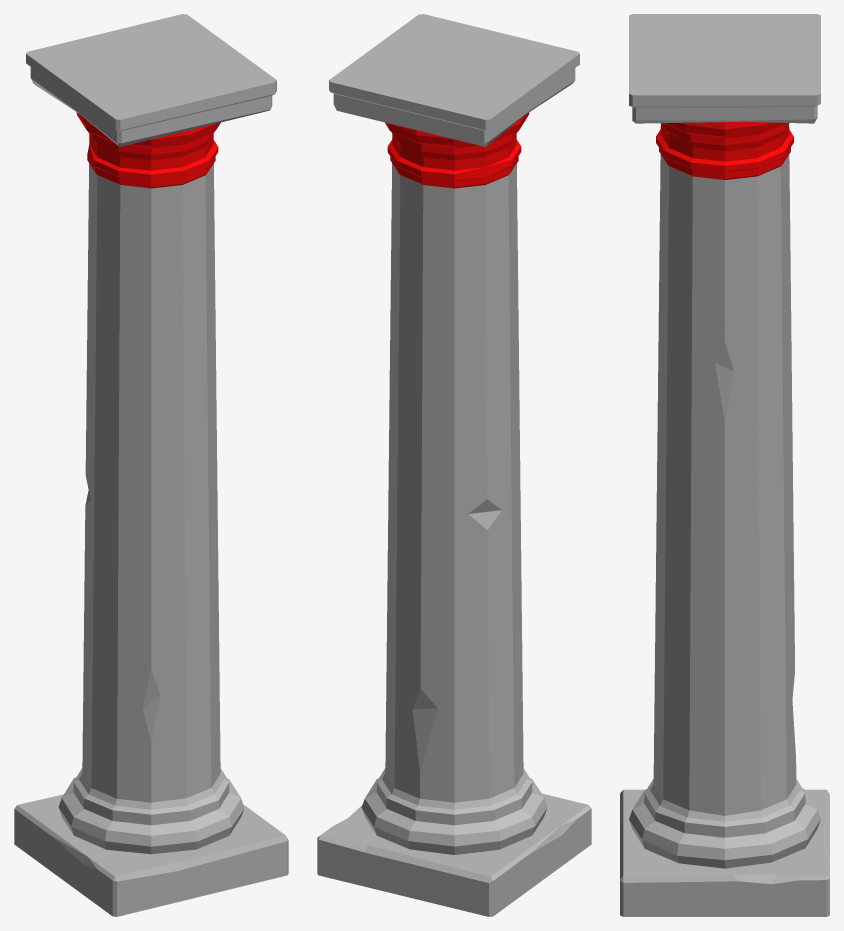
File: SM_Bld_Pillar_01.glb
3 renders of one model, left to right at view 1: azimuth 30°, elevation 25°; view 2: azimuth 150°, elevation 25°; view 3: azimuth 270°, elevation 25°, orthographic. The views are drawn at different scales.
Parts seen in each view (by area): view 1: SM_Bld_Pillar_01; view 2: SM_Bld_Pillar_01; view 3: SM_Bld_Pillar_01.
Boxes of the visible parts, <box> form: SM_Bld_Pillar_01: <box>14,14,288,916</box>; SM_Bld_Pillar_01: <box>317,14,591,916</box>; SM_Bld_Pillar_01: <box>620,14,829,916</box>.
Bounding box in the file's own units: 0.6973 × 3 × 0.6973.
